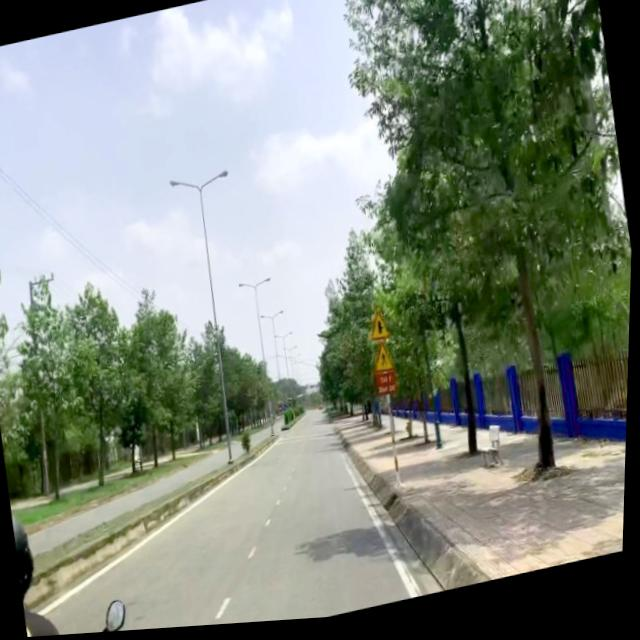Giao nhau voi duong khong uu tien ben phai: (369, 315, 394, 348)
Nguoi di bo cat ngang: (373, 344, 397, 380)
